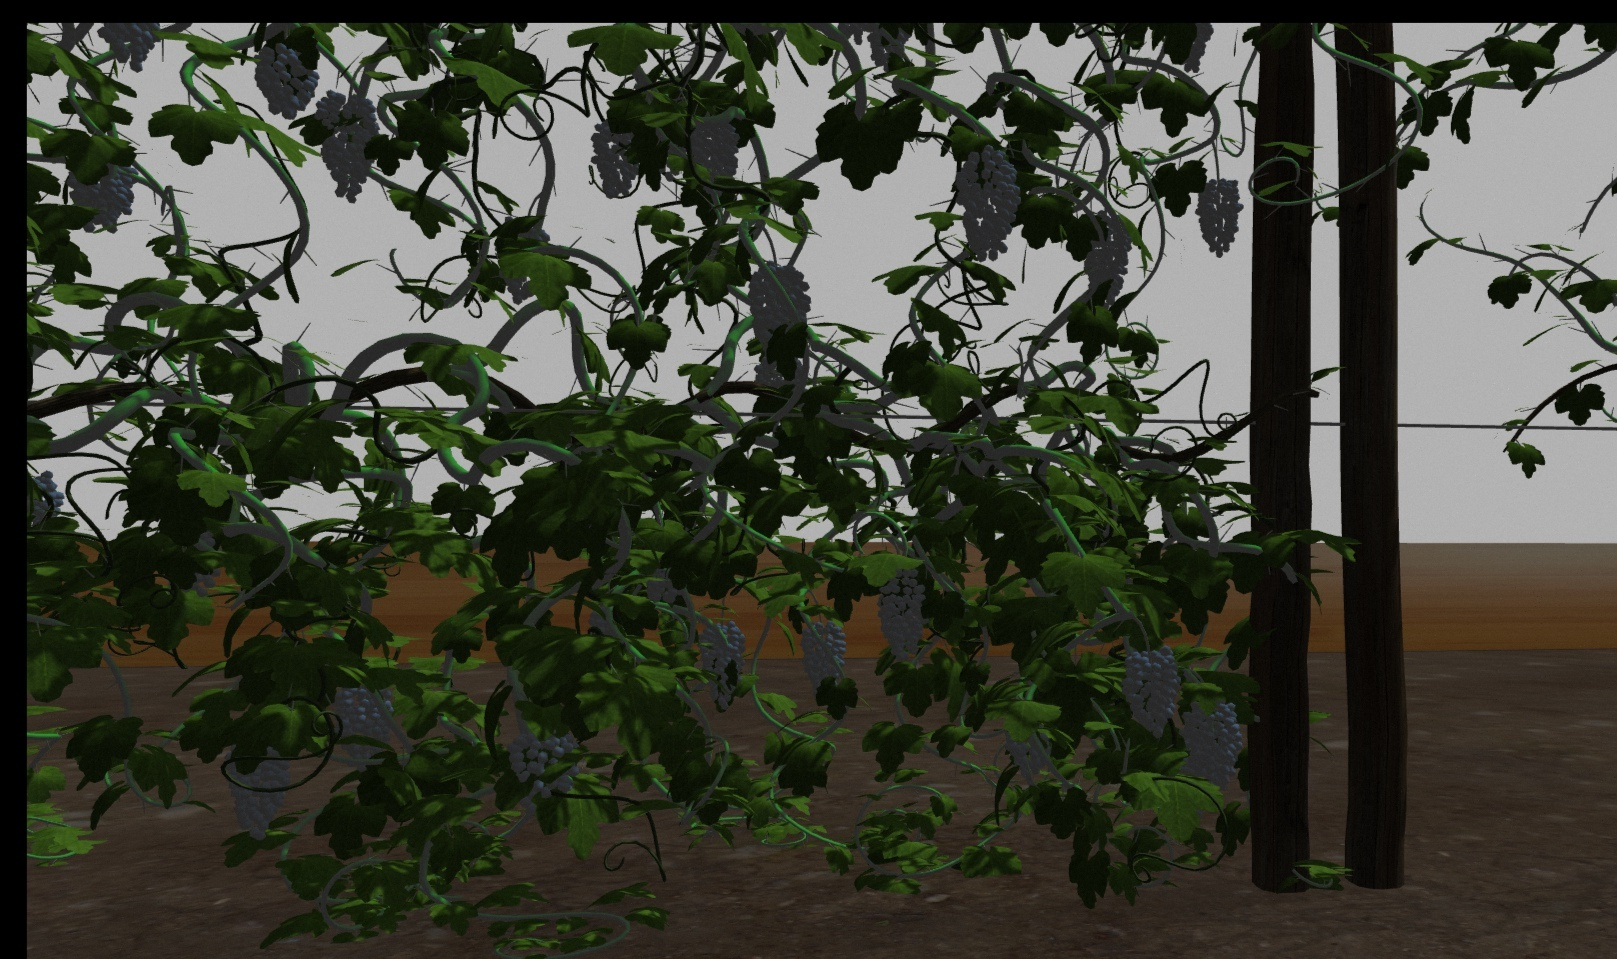grape: (312, 92, 379, 202), (954, 147, 1019, 259), (221, 751, 290, 837), (66, 150, 136, 233), (747, 258, 812, 347), (326, 684, 395, 765), (1179, 700, 1242, 788), (1119, 646, 1179, 736), (874, 574, 929, 664), (506, 730, 575, 799), (248, 47, 314, 120), (1190, 174, 1244, 260), (1078, 209, 1132, 295), (700, 619, 745, 711), (589, 114, 636, 198), (684, 116, 739, 182), (800, 616, 848, 688), (1002, 726, 1048, 783)
